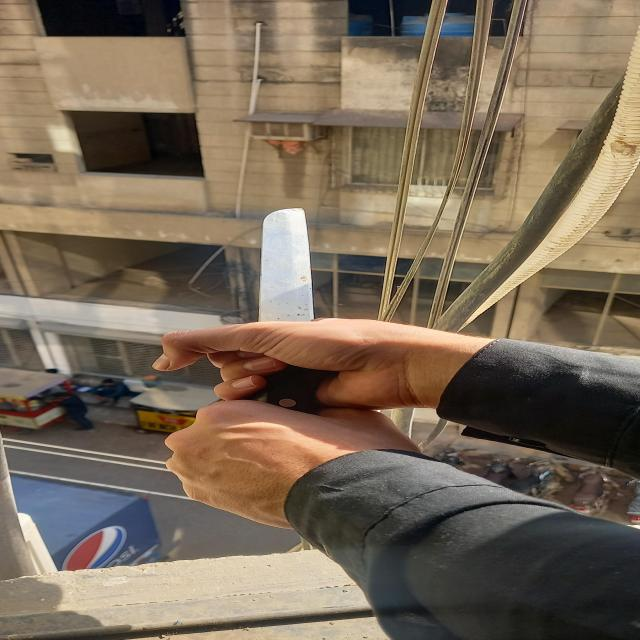Knife: (264, 208, 315, 414)
Person: (162, 319, 640, 640)
